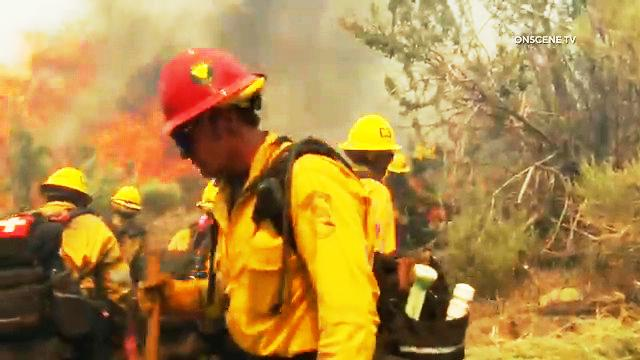fire: (102, 110, 149, 172)
